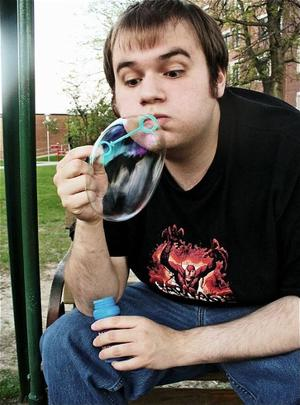person: (39, 2, 300, 405)
